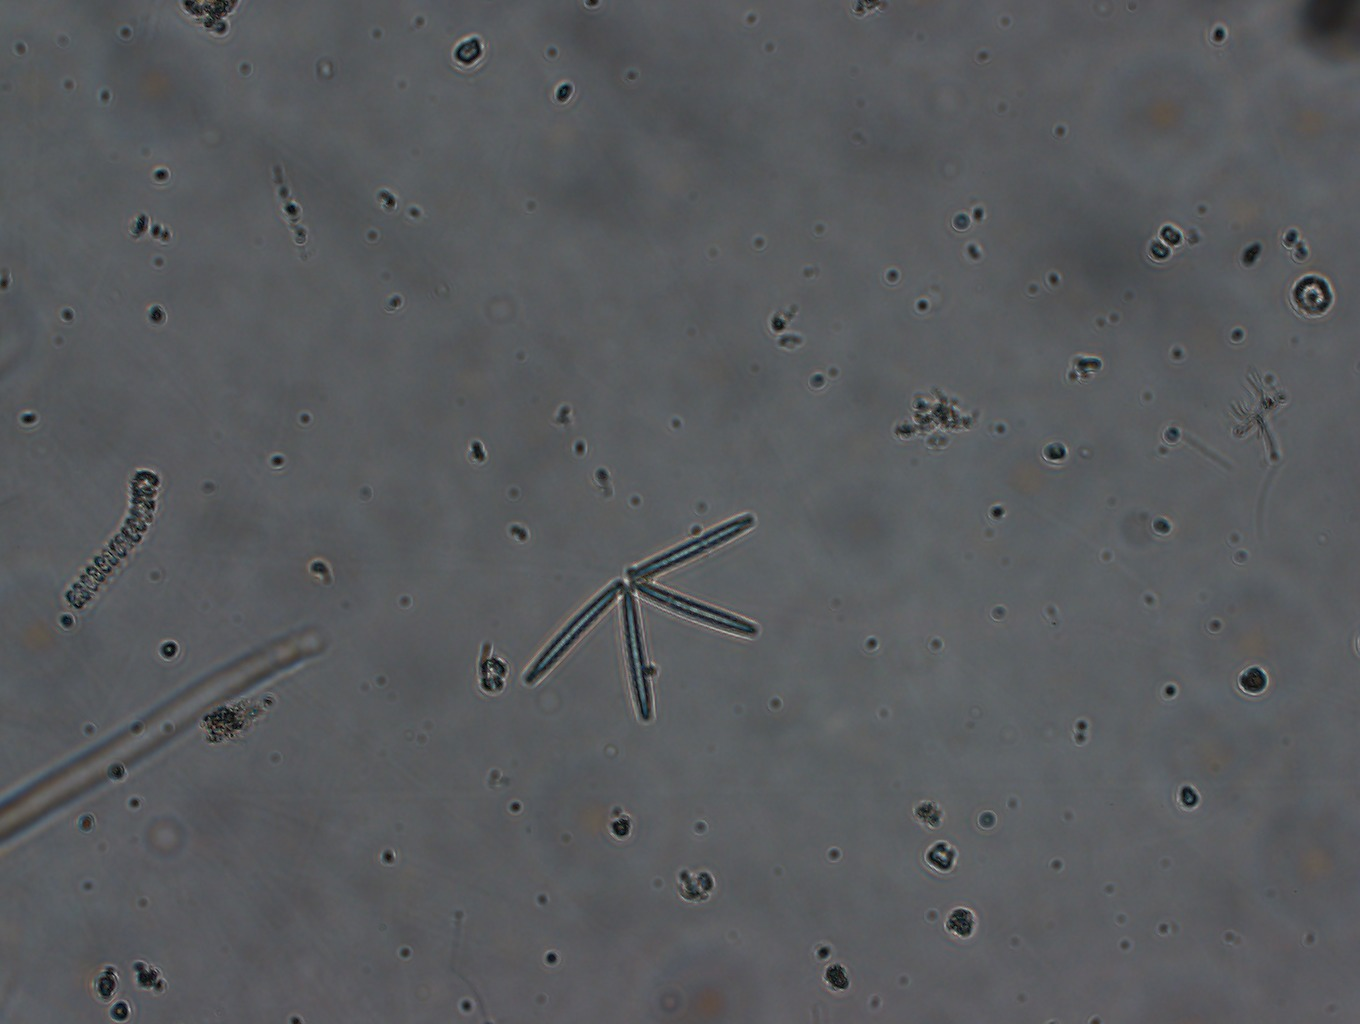skeletonema: (48, 461, 164, 608)
thalassionema nitzschioides: (515, 496, 763, 726)
